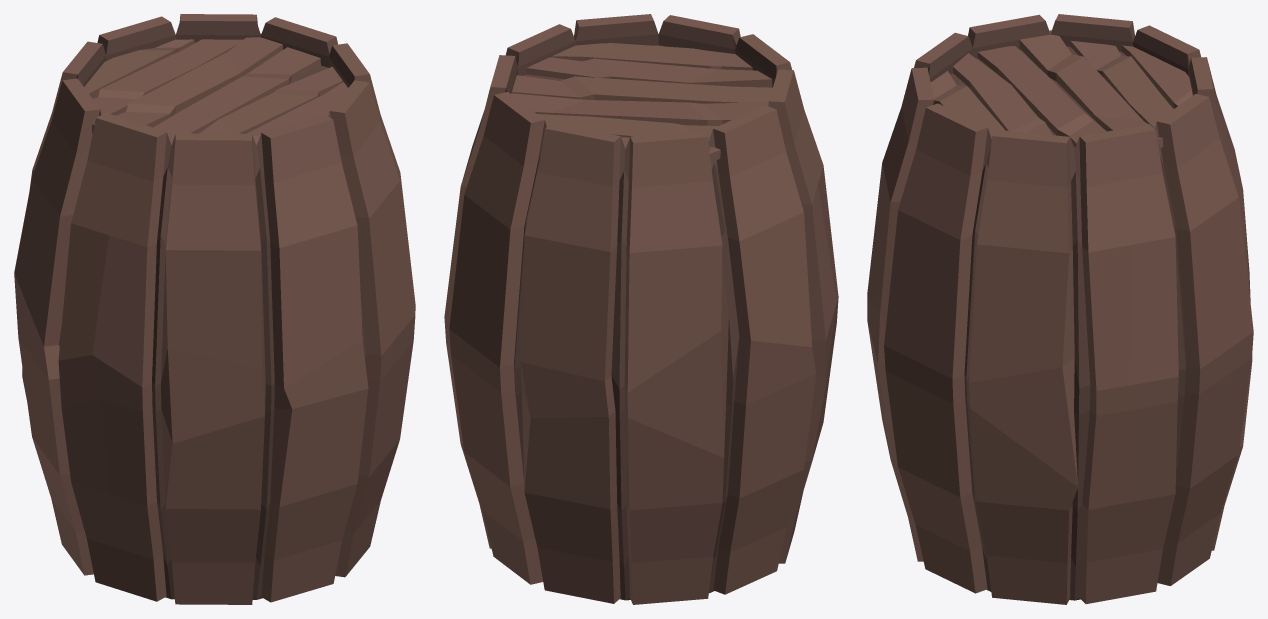
The model's file is Barrel2.glb.
The picture shows the model from 3 angles, left to right: view 1: azimuth 30°, elevation 25°; view 2: azimuth 150°, elevation 25°; view 3: azimuth 270°, elevation 25°; orthographic projection.
Visible parts, largest first — view 1: Barrel; view 2: Barrel; view 3: Barrel.
Boxes of the visible parts, x1,y1,x2,y2 form: Barrel: (14,14,415,604); Barrel: (444,14,838,604); Barrel: (867,14,1253,604).
Size of the model in its own units: 1.03 by 1.35 by 1.02.
